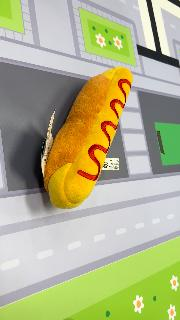hotdog: (42, 66, 134, 210)
